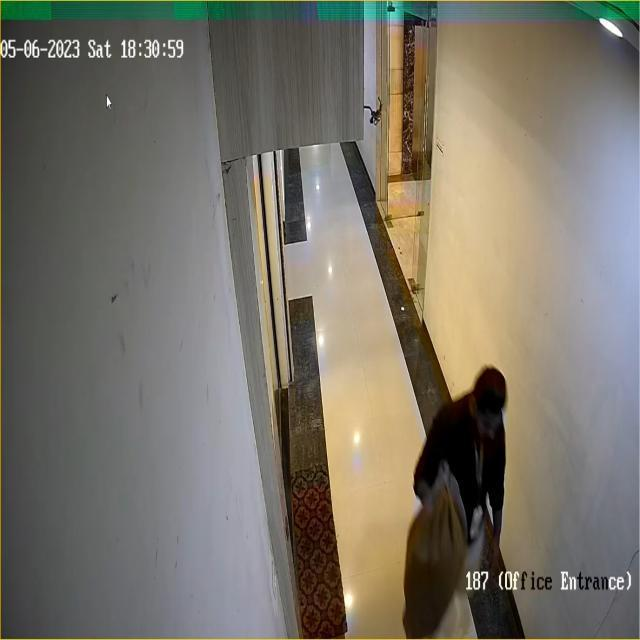gunny_bag: (401, 479, 472, 638)
